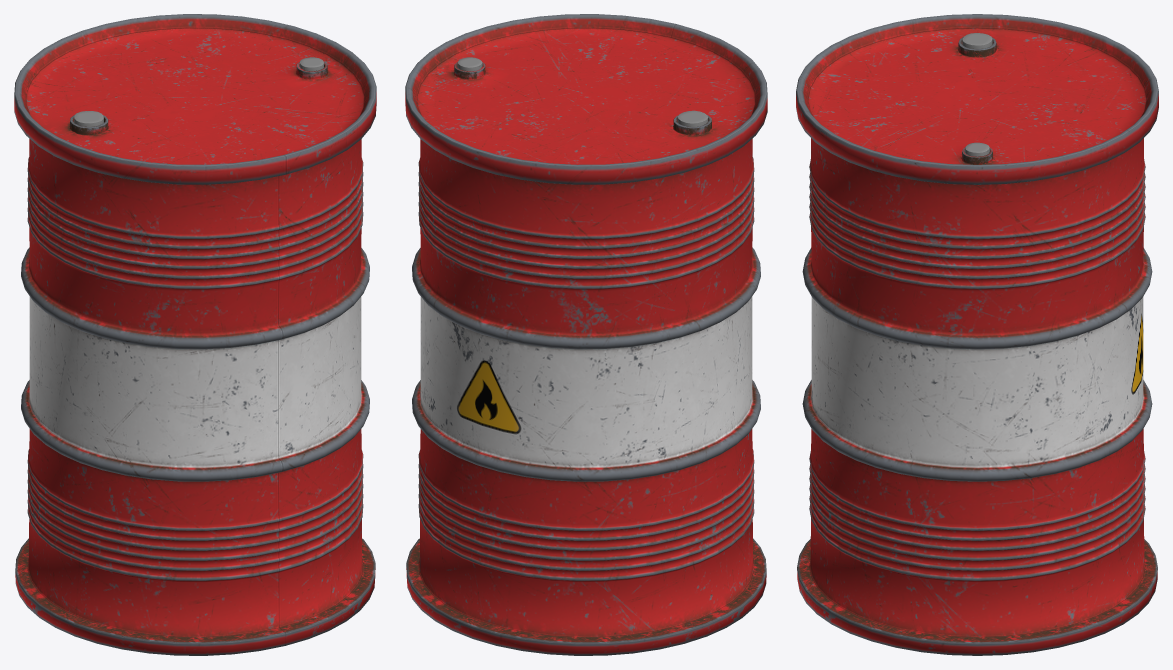
The model's file is oil_barrel.glb.
3 renders of one model, left to right at view 1: azimuth 30°, elevation 25°; view 2: azimuth 150°, elevation 25°; view 3: azimuth 270°, elevation 25°, orthographic.
Parts seen in each view (by area): view 1: Oil Barrel; view 2: Oil Barrel; view 3: Oil Barrel.
Part boxes in pixels (bbox=[...]): Oil Barrel: bbox=[14, 14, 376, 655]; Oil Barrel: bbox=[405, 14, 767, 655]; Oil Barrel: bbox=[796, 14, 1158, 655].
Bounding box in the file's own units: 0.64 × 0.9547 × 0.6403.
1 material, 1 textured.
